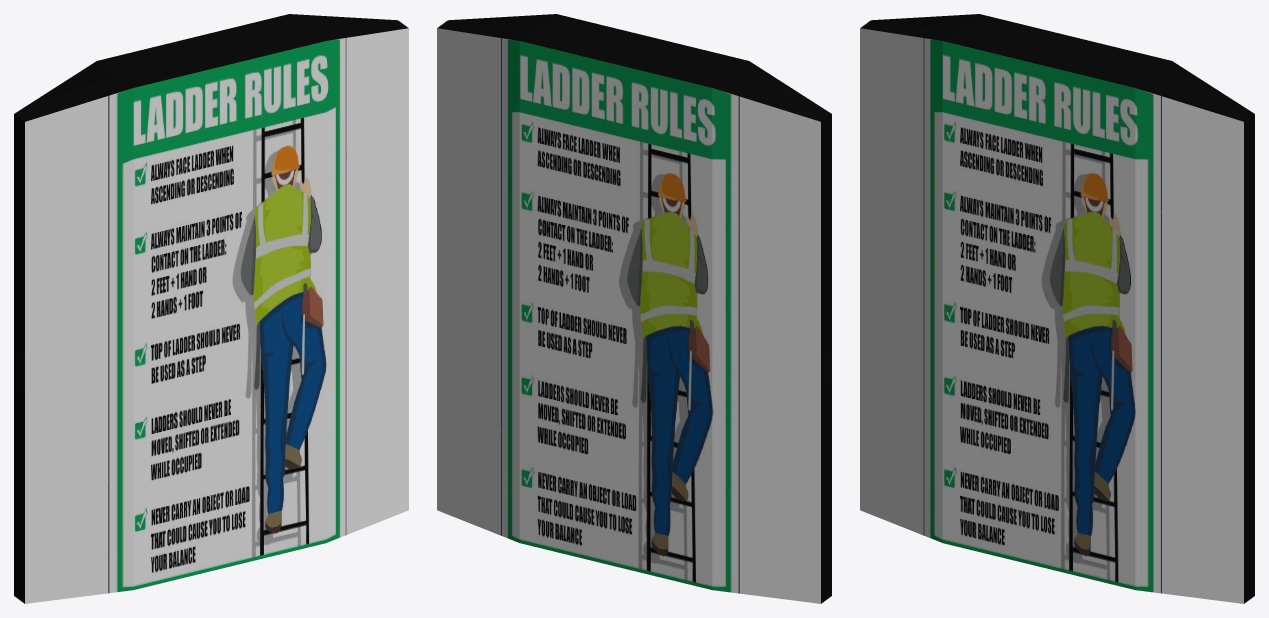
The model's file is PPE_Green.fbx.
3 renders of one model, left to right at view 1: azimuth 30°, elevation 25°; view 2: azimuth 150°, elevation 25°; view 3: azimuth 330°, elevation 25°, orthographic.
Parts seen in each view (by area): view 1: Cube; view 2: Cube; view 3: Cube.
Boxes of the visible parts, x1,y1,x2,y2 form: Cube: (14,14,408,603); Cube: (437,14,831,603); Cube: (860,14,1254,603).
Size of the model in its own units: 200 by 250 by 33.25.
